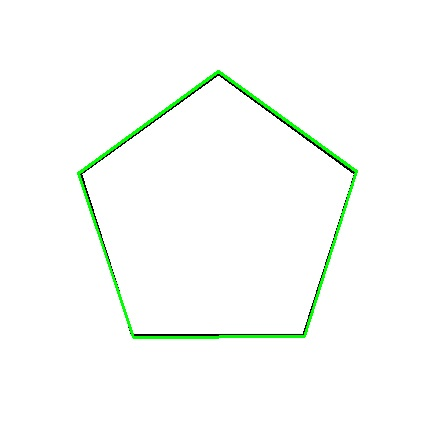line_segment: (78, 71, 358, 338)
